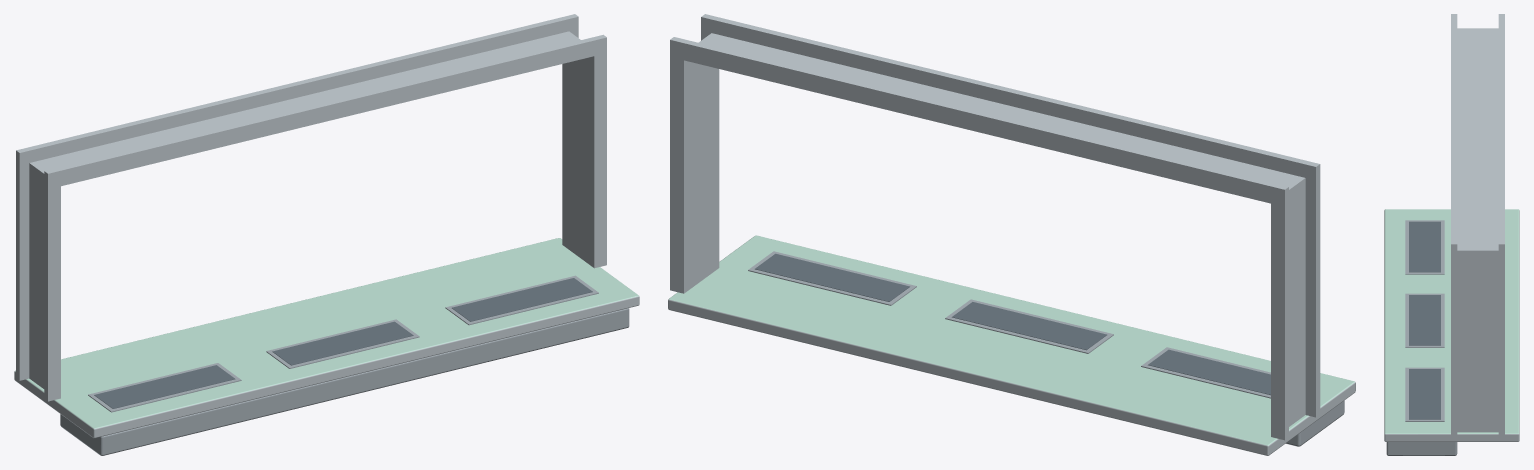
File: SM_StationWindow_Kasa.glb
The picture shows the model from 3 angles, left to right: view 1: azimuth 30°, elevation 25°; view 2: azimuth 150°, elevation 25°; view 3: azimuth 270°, elevation 25°; orthographic projection. The views are drawn at different scales.
Parts seen in each view (by area): view 1: Pervaz, Kasa_Sove; view 2: Pervaz, Kasa_Sove; view 3: Kasa_Sove, Pervaz.
Part boxes in pixels (x1,y1,x2,y2): Pervaz: (14,238,639,455); Kasa_Sove: (16,14,606,401); Pervaz: (668,235,1355,455); Kasa_Sove: (670,14,1320,440); Kasa_Sove: (1451,14,1504,436); Pervaz: (1384,209,1519,455).
Bounding box in the file's own units: 2.62 × 1.16 × 0.65.
3 materials, 3 textured.
